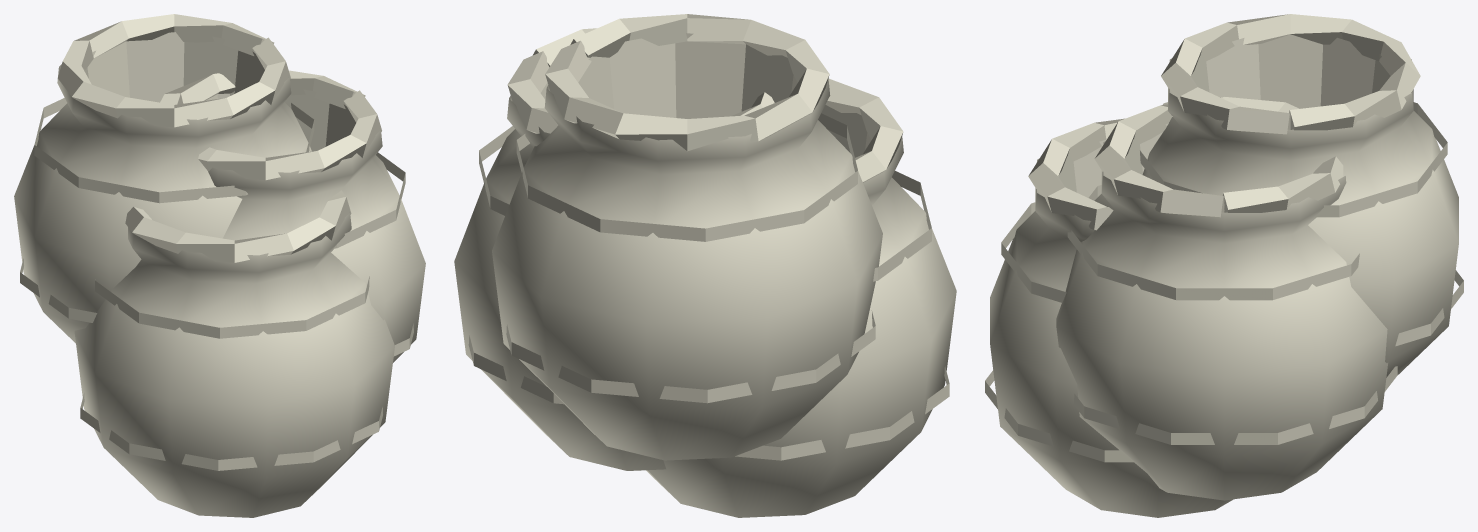
Rendered from item_046_milk_m.glb.
3 renders of one model, left to right at view 1: azimuth 30°, elevation 25°; view 2: azimuth 150°, elevation 25°; view 3: azimuth 270°, elevation 25°, orthographic. The views are drawn at different scales.
Parts seen in each view (by area): view 1: item_046_milk_m; view 2: item_046_milk_m; view 3: item_046_milk_m.
Part boxes in pixels (x1,y1,x2,y2): item_046_milk_m: (14,14,425,517); item_046_milk_m: (454,14,956,517); item_046_milk_m: (985,14,1463,517).
Bounding box in the file's own units: 0.39 × 0.4136 × 0.4333.
